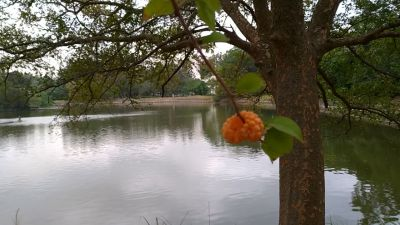eggs: (221, 108, 266, 145)
